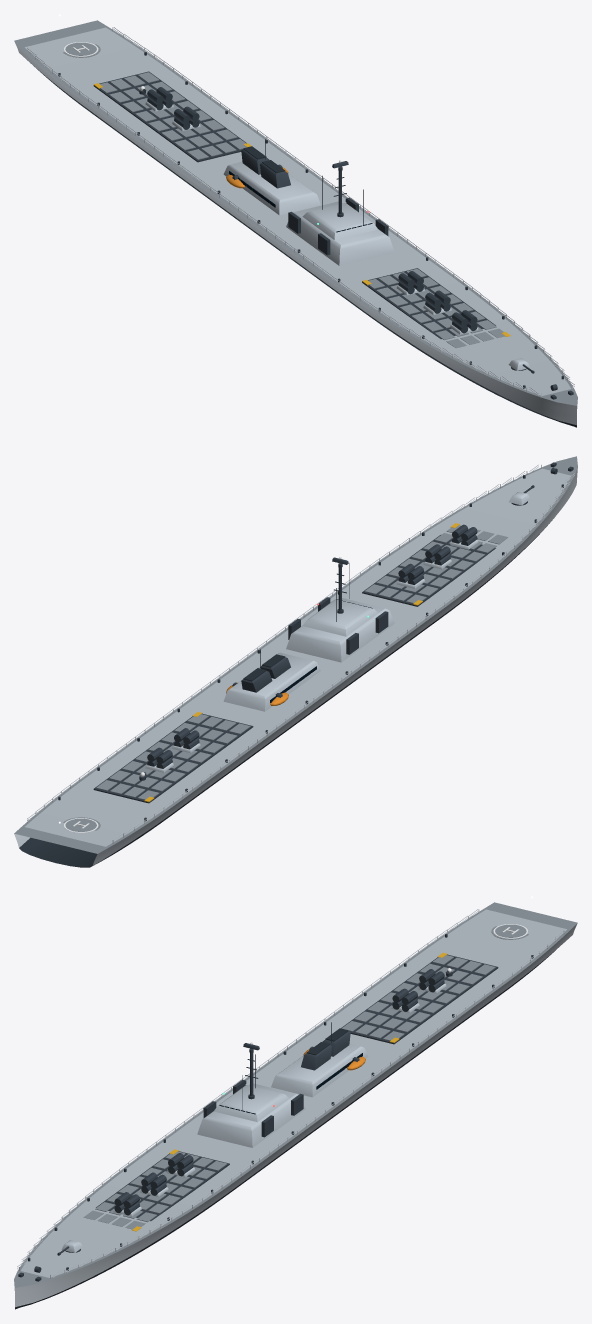
File: ship_missile.glb
3 renders of one model, top to bottom at view 1: azimuth 30°, elevation 25°; view 2: azimuth 150°, elevation 25°; view 3: azimuth 330°, elevation 25°, orthographic.
Visible parts, largest first — view 1: deck_plate, hull, deck, vls_aft_array_hatches, vls_fwd_array_hatches, rails, bridge1, midhouse, vls_aft_array, bridge2, vls_fwd_array, hull_under (+1 smaller); view 2: deck_plate, deck, hull, vls_aft_array_hatches, rails, vls_fwd_array_hatches, bridge1, hull_under, midhouse, vls_aft_array, bridge2, vls_fwd_array (+1 smaller); view 3: deck_plate, hull, deck, vls_aft_array_hatches, vls_fwd_array_hatches, rails, bridge1, midhouse, vls_aft_array, bridge2, vls_fwd_array, hull_under (+1 smaller).
Part boxes in pixels (x1,y1,x2,y2): deck_plate: [25, 27, 570, 395]; hull: [14, 41, 577, 425]; deck: [14, 20, 577, 405]; vls_aft_array_hatches: [100, 72, 246, 159]; vls_fwd_array_hatches: [368, 268, 504, 348]; rails: [27, 27, 574, 396]; bridge1: [286, 201, 394, 265]; midhouse: [223, 159, 320, 215]; vls_aft_array: [93, 71, 246, 162]; bridge2: [302, 203, 378, 239]; vls_fwd_array: [362, 268, 495, 339]; hull_under: [30, 63, 576, 427]; deck_plate: [25, 468, 570, 846]; deck: [14, 456, 577, 853]; hull: [14, 467, 577, 865]; vls_aft_array_hatches: [96, 714, 250, 799]; rails: [27, 464, 574, 843]; vls_fwd_array_hatches: [364, 525, 508, 603]; bridge1: [286, 598, 394, 662]; hull_under: [19, 520, 552, 867]; midhouse: [223, 652, 320, 711]; vls_aft_array: [93, 713, 253, 803]; bridge2: [302, 599, 378, 636]; vls_fwd_array: [362, 534, 495, 606]; deck_plate: [21, 909, 566, 1277]; hull: [14, 923, 577, 1307]; deck: [14, 902, 577, 1287]; vls_aft_array_hatches: [341, 955, 495, 1040]; vls_fwd_array_hatches: [83, 1151, 227, 1229]; rails: [17, 909, 564, 1278]; bridge1: [197, 1083, 305, 1147]; midhouse: [271, 1041, 368, 1097]; vls_aft_array: [341, 954, 498, 1044]; bridge2: [213, 1085, 289, 1121]; vls_fwd_array: [96, 1151, 229, 1221]; hull_under: [15, 950, 555, 1309].
Bounding box in the file's own units: 0.42 × 0.429 × 3.9.
